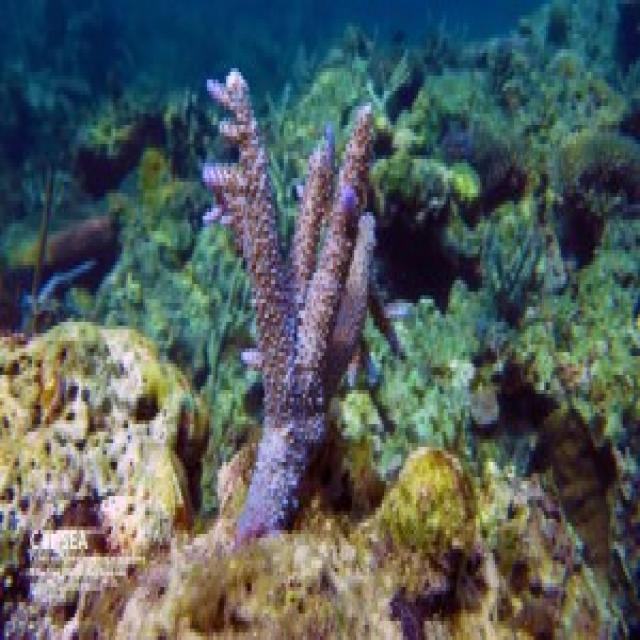Bleached: (1, 323, 208, 588)
Healthy: (204, 73, 374, 539), (477, 459, 611, 637), (513, 293, 639, 448), (381, 448, 475, 558)
